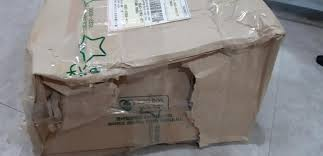damaged package: (30, 71, 64, 148), (173, 65, 204, 143), (100, 70, 132, 86)
